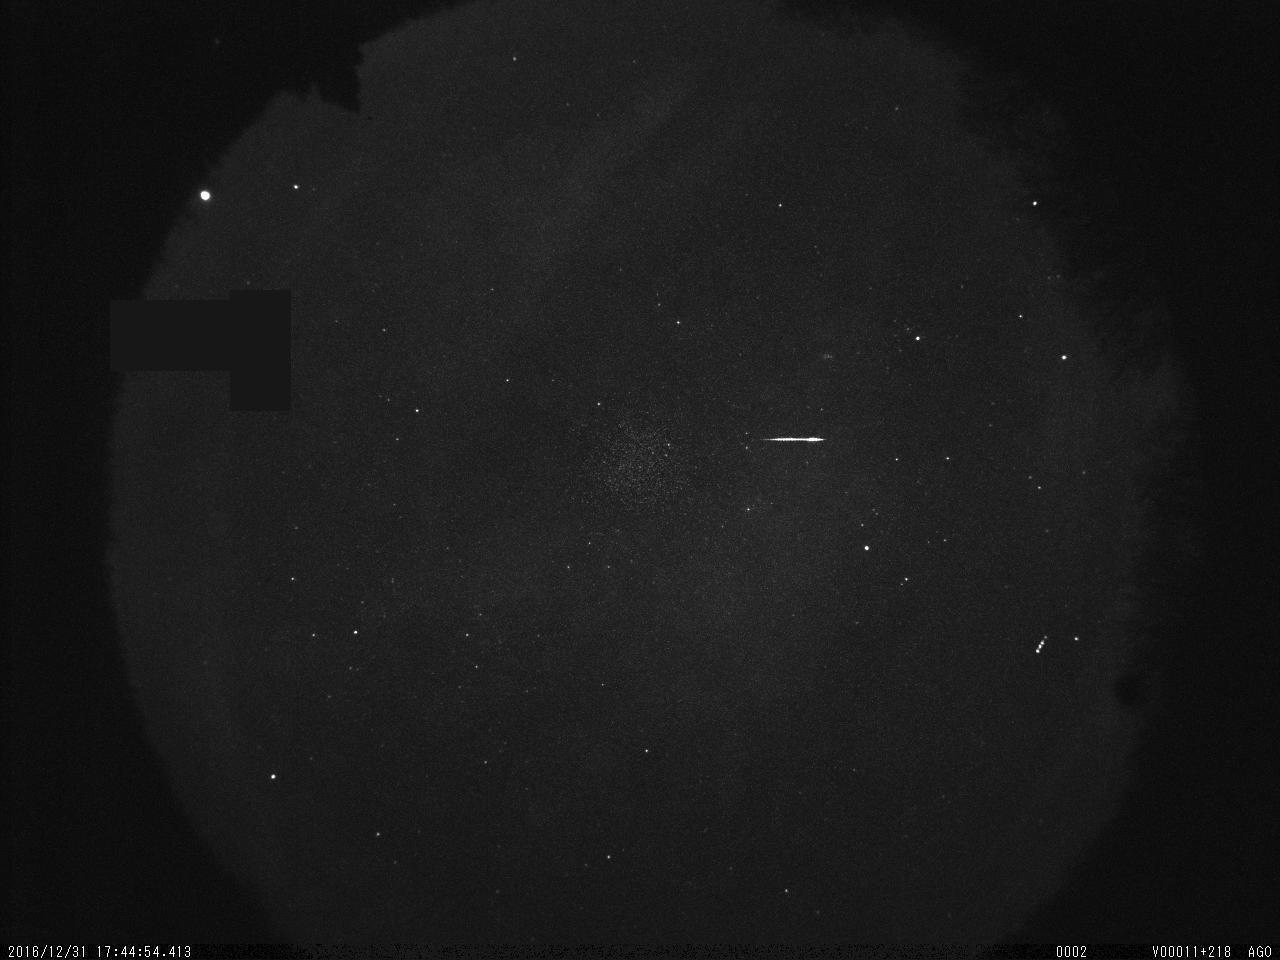Meteor: (757, 433, 826, 444)
